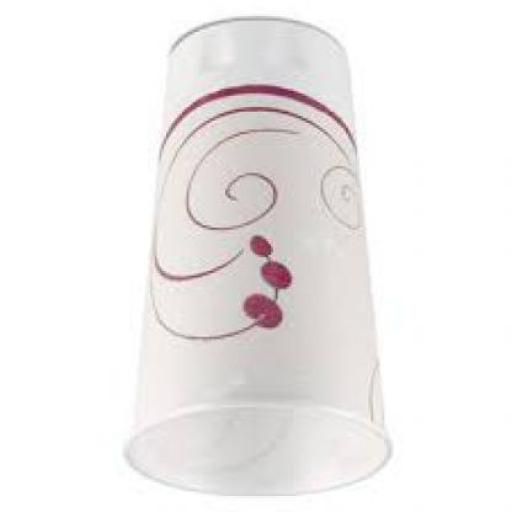paper: (127, 20, 396, 500)
